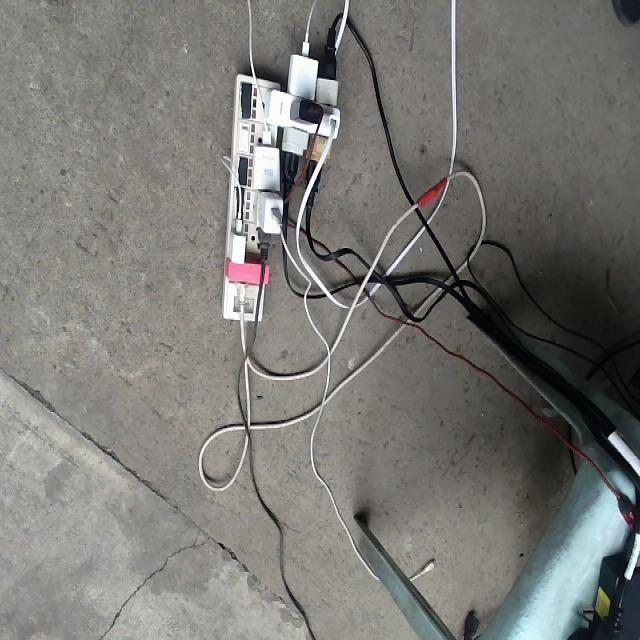-: (221, 25, 339, 324)
